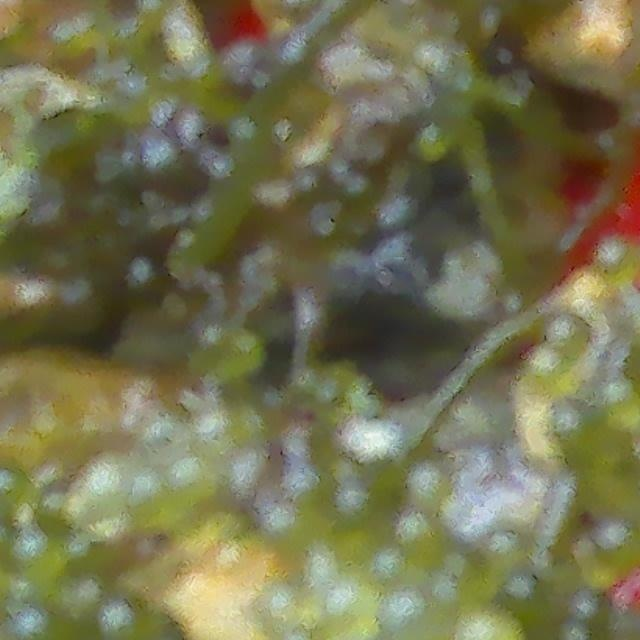SeaGrape: (129, 117, 208, 201), (57, 458, 128, 537), (320, 575, 380, 640), (112, 244, 172, 306), (169, 103, 223, 163), (15, 530, 61, 580), (106, 598, 154, 640), (6, 605, 61, 640)
